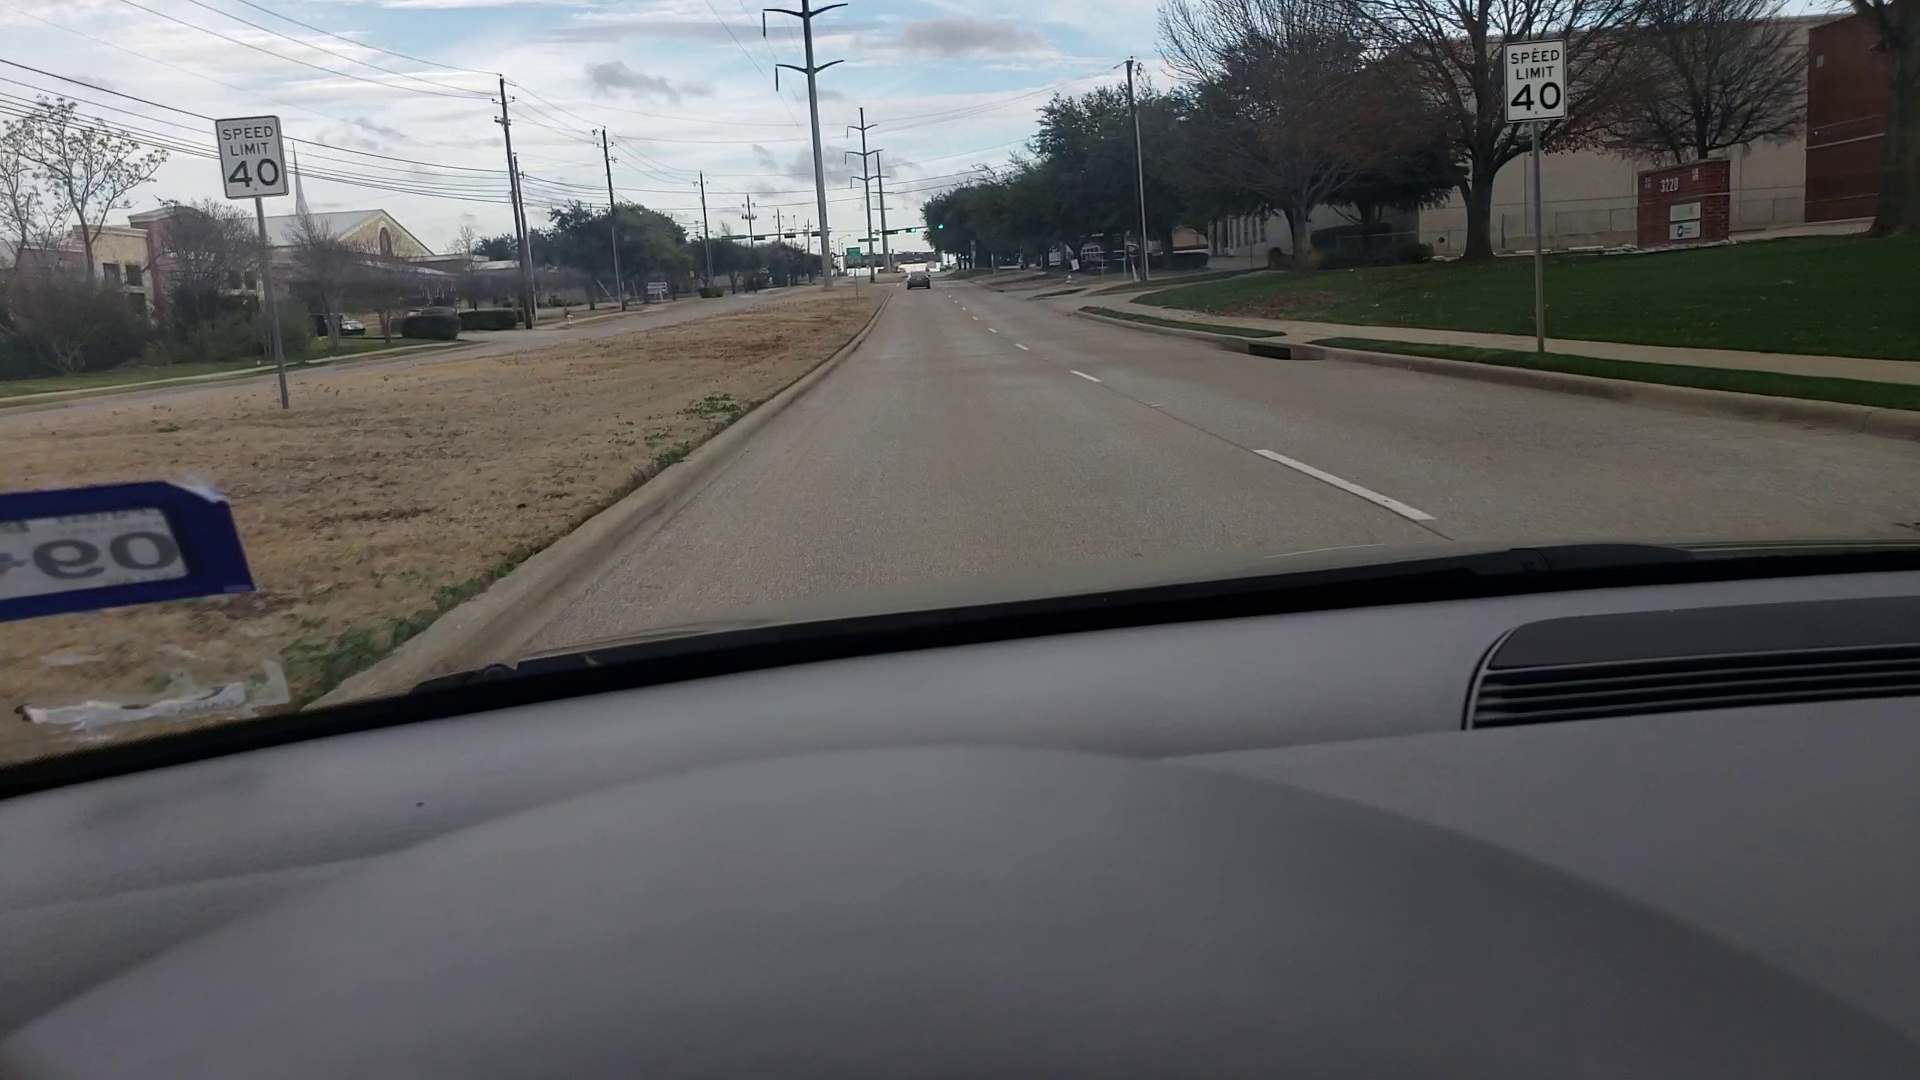car: (314, 309, 367, 340), (909, 270, 932, 289)
traffic light: (936, 223, 947, 229), (905, 227, 916, 232)
